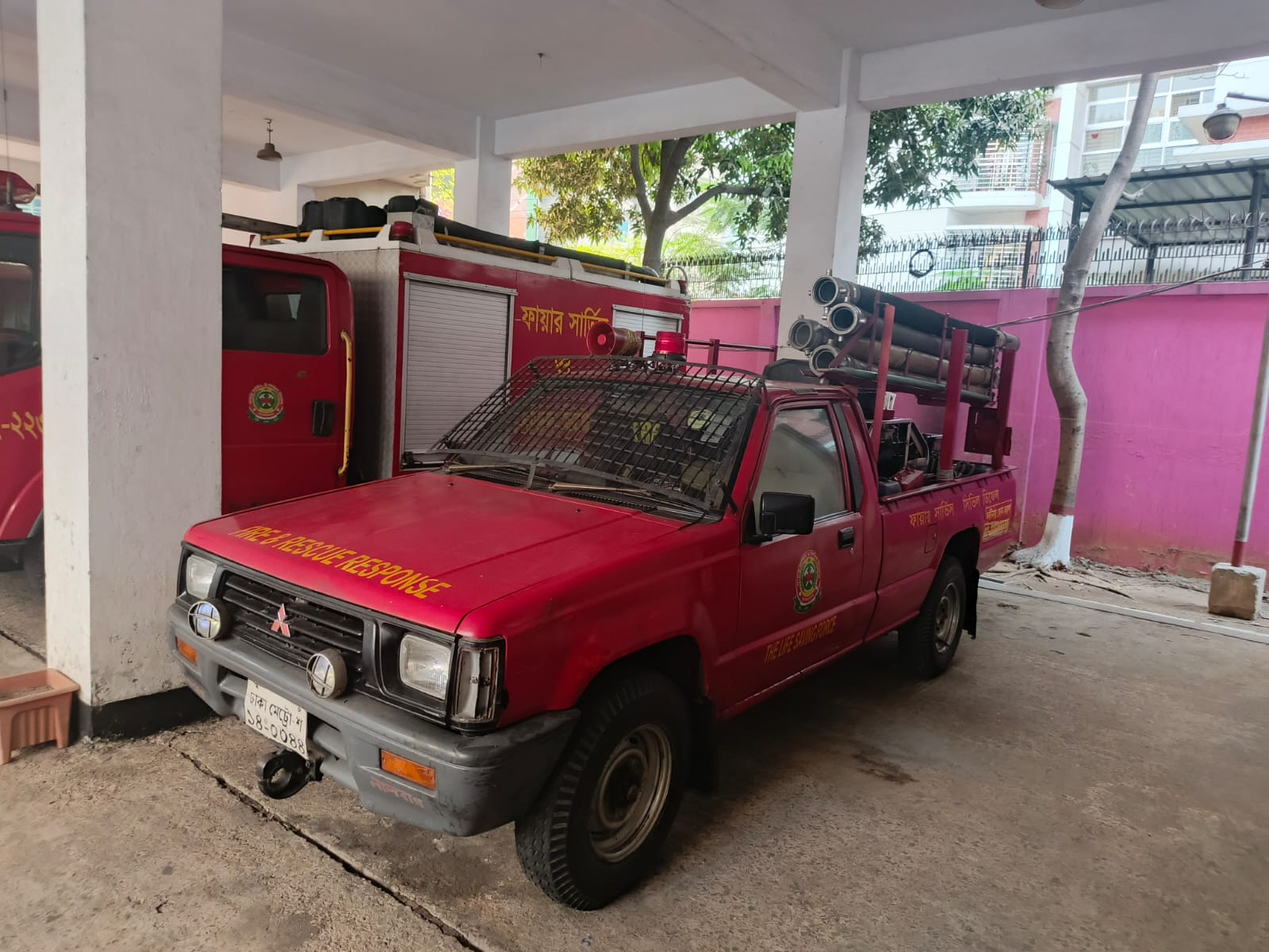Fire truck: (159, 263, 1033, 910), (214, 234, 696, 454)
